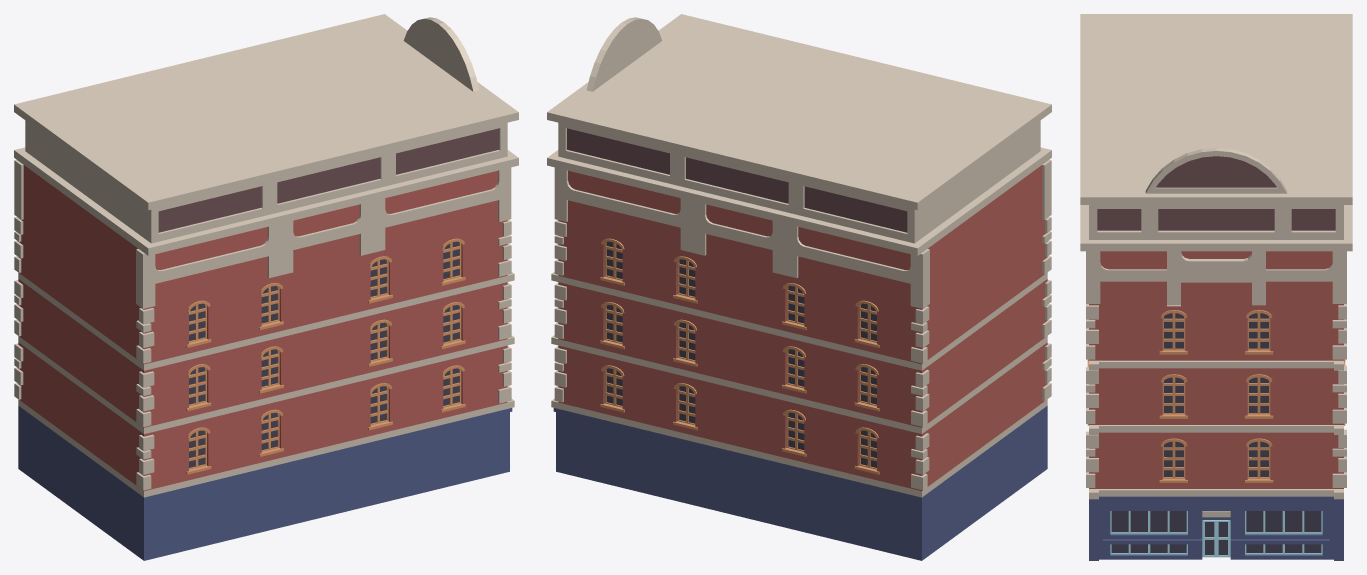
File: Building5.fbx
3 views of the same model, side by side, from view 1: azimuth 30°, elevation 25°; view 2: azimuth 150°, elevation 25°; view 3: azimuth 270°, elevation 25° (orthographic).
Visible parts, largest first — view 1: Plane.005, Plane.003, Plane.008, Plane.057, Plane.004; view 2: Plane.005, Plane.003, Plane.008, Plane.057, Plane.004; view 3: Plane.005, Plane.057, Plane.003, Plane.008, Plane.004.
Part boxes in pixels (box(x1,y1,x2,y2)): Plane.005: box(14, 14, 518, 308); Plane.003: box(14, 342, 514, 497); Plane.008: box(14, 279, 514, 433); Plane.057: box(14, 217, 514, 370); Plane.004: box(18, 406, 512, 560); Plane.005: box(547, 14, 1051, 308); Plane.003: box(551, 342, 1051, 497); Plane.008: box(551, 279, 1051, 433); Plane.057: box(551, 216, 1051, 370); Plane.004: box(553, 406, 1047, 560); Plane.005: box(1080, 14, 1352, 306); Plane.057: box(1086, 303, 1346, 370); Plane.003: box(1086, 361, 1346, 499); Plane.008: box(1086, 359, 1346, 434); Plane.004: box(1089, 496, 1343, 560).
Size of the model in its own units: 3080 by 3183 by 1920.
